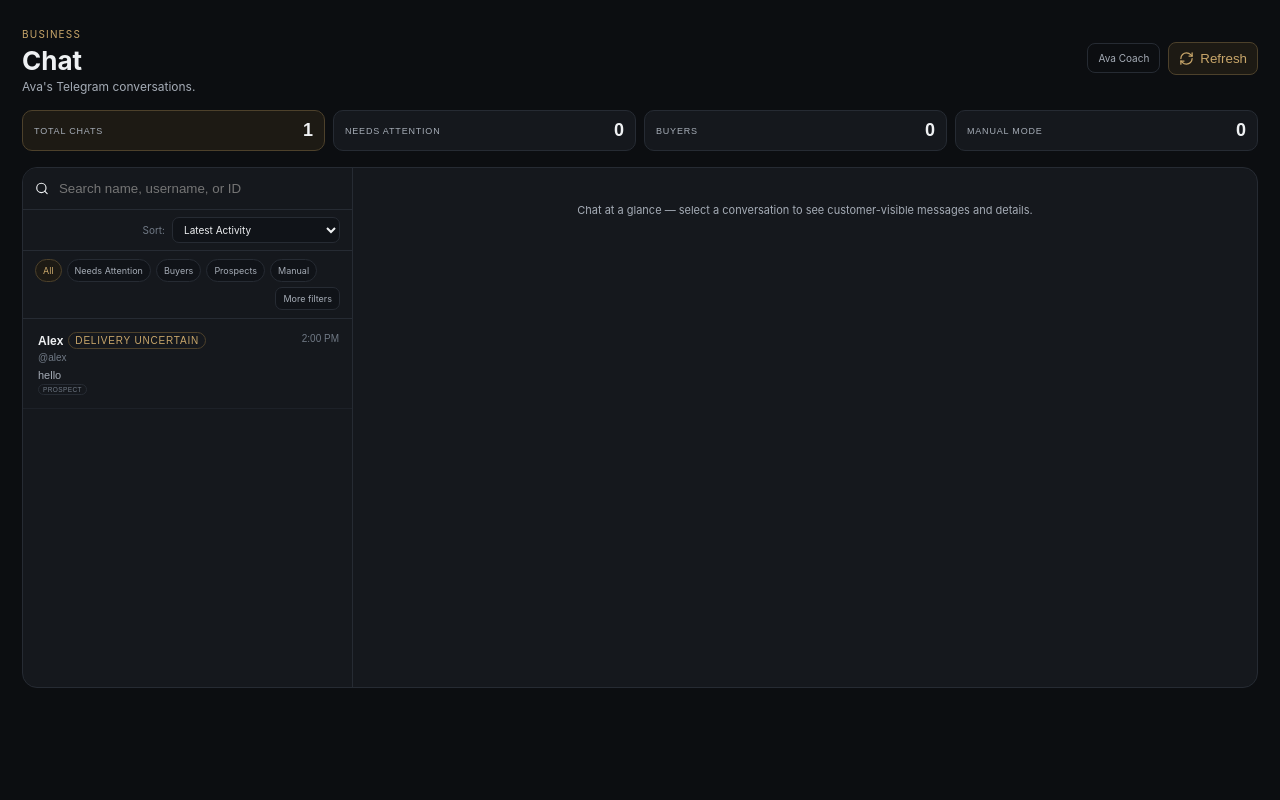
Test: failed acknowledgement retains warning
Click the button with aria-label "Dismiss Delivery Uncertain warning": [137, 340] box x1=68 y1=332 x2=206 y2=349
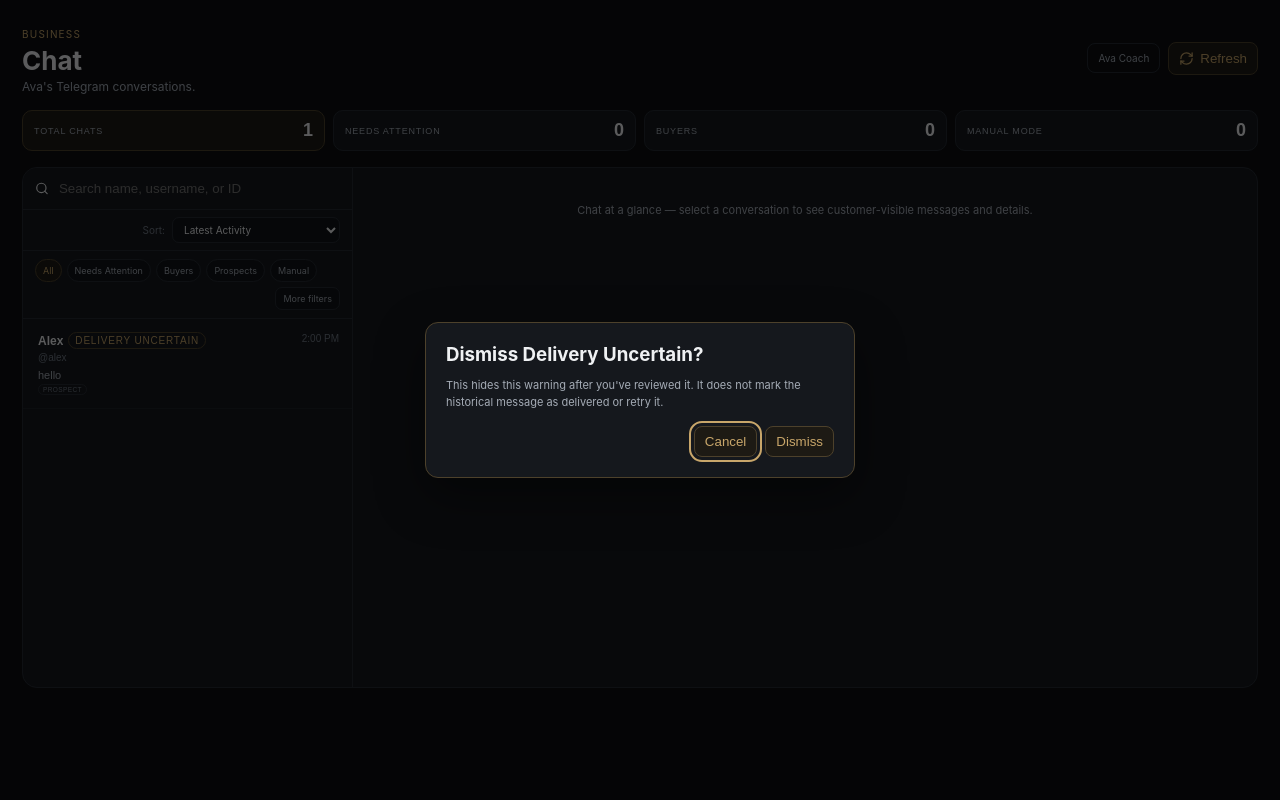
Click the button "Dismiss": [800, 442] box x1=765 y1=426 x2=834 y2=457
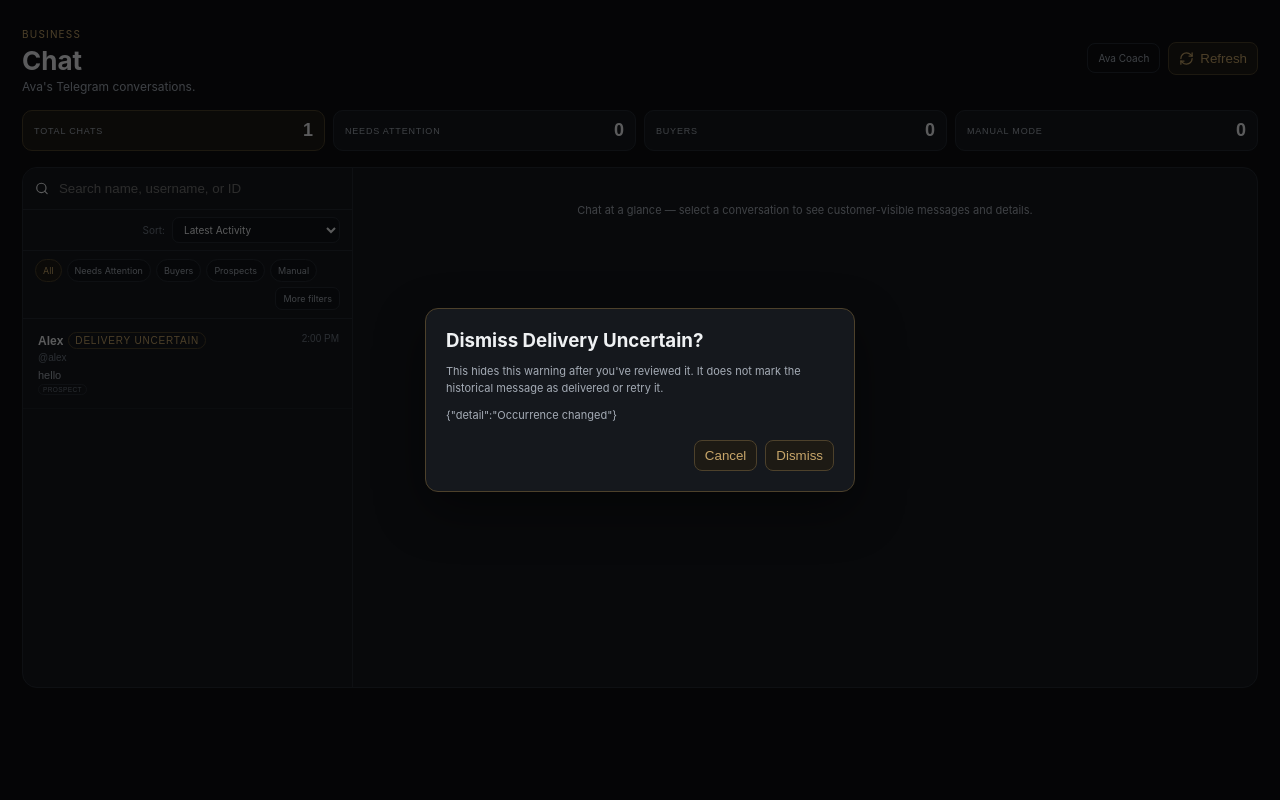
Expected: the button with aria-label "Dismiss Delivery Uncertain warning" is shown, x1=68 y1=332 x2=206 y2=349
Expected: the message shows "Occurrence changed", x1=446 y1=408 x2=617 y2=422
